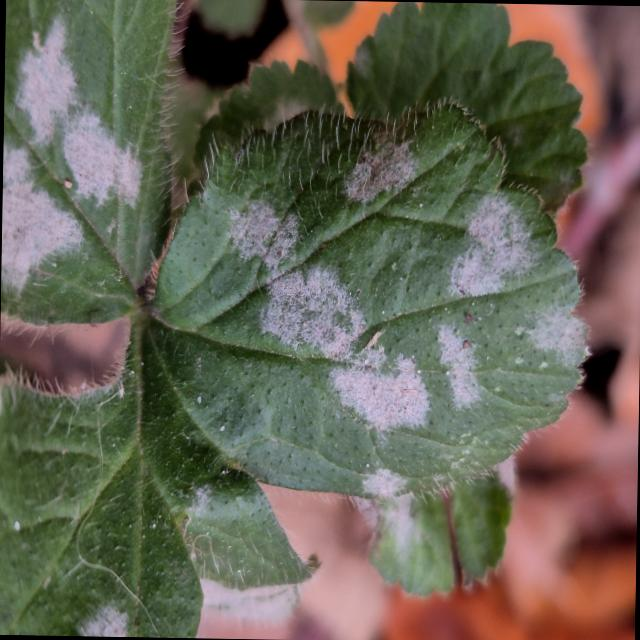powdery_mildew: (0, 0, 585, 638)
